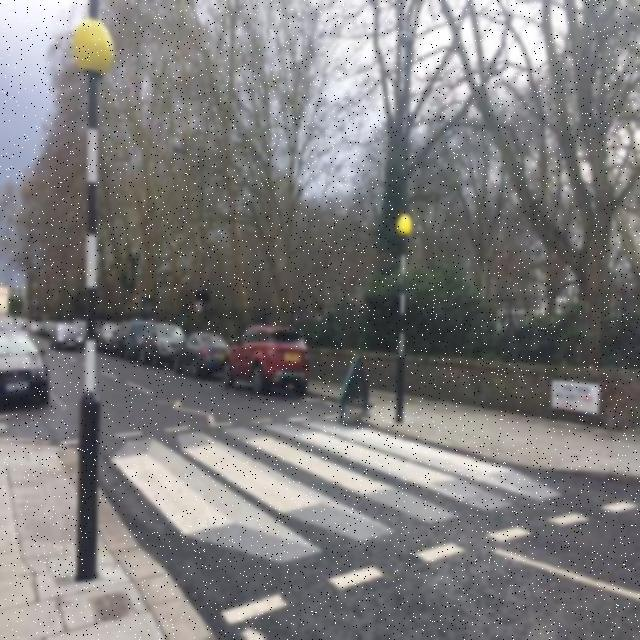crosswalk: (111, 398, 573, 600)
